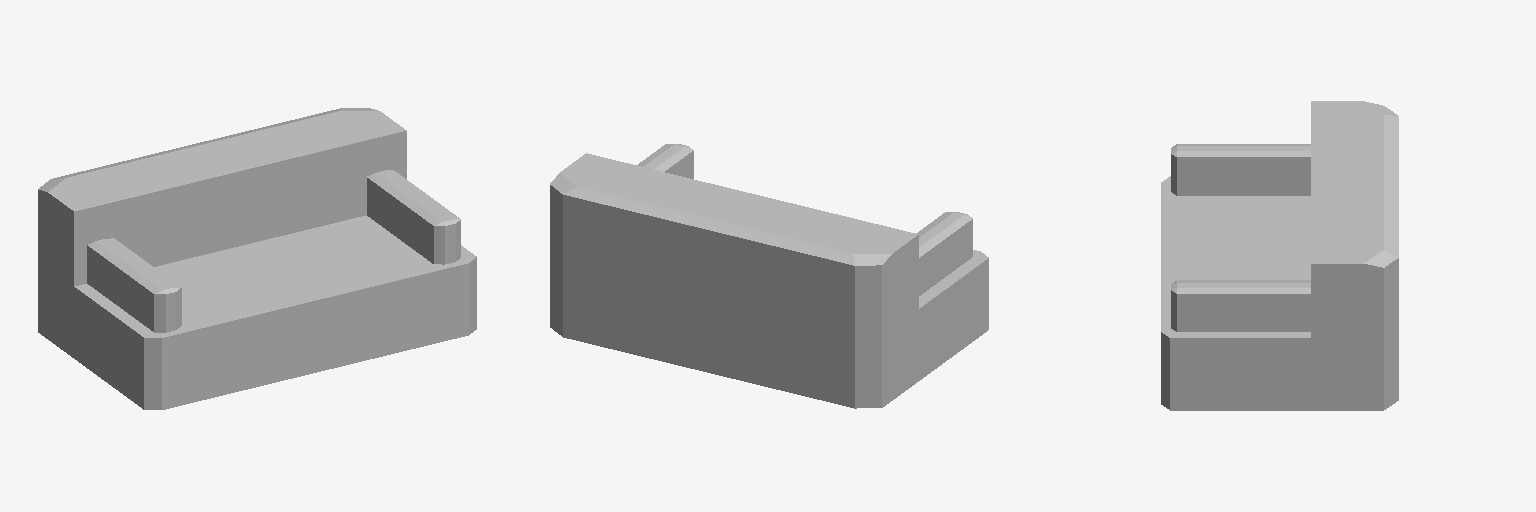
The model's file is sofa.obj.
3 renders of one model, left to right at view 1: azimuth 30°, elevation 25°; view 2: azimuth 150°, elevation 25°; view 3: azimuth 270°, elevation 25°, orthographic.
Parts seen in each view (by area): view 1: Cube; view 2: Cube; view 3: Cube.
Part boxes in pixels (left/top/right/bottom): Cube: left=38, top=108, right=476, bottom=409; Cube: left=550, top=144, right=988, bottom=408; Cube: left=1161, top=101, right=1398, bottom=410.
Bounding box in the file's own units: 2 × 0.8452 × 1.24.